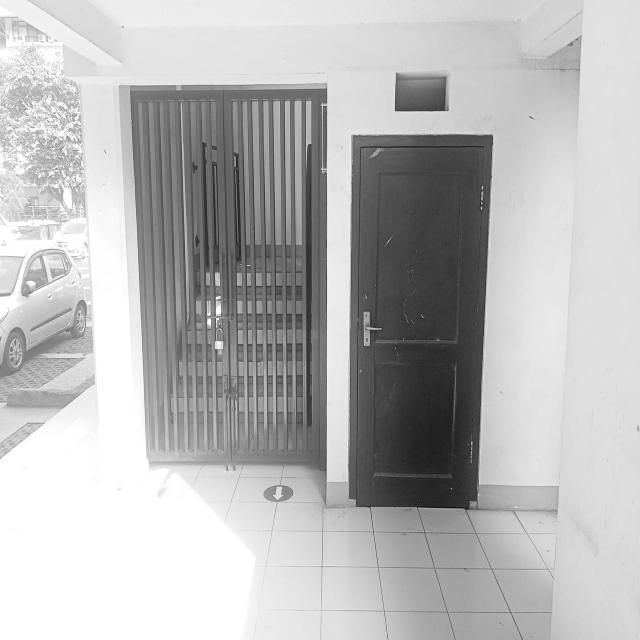door: (125, 86, 327, 468), (352, 135, 494, 510)
